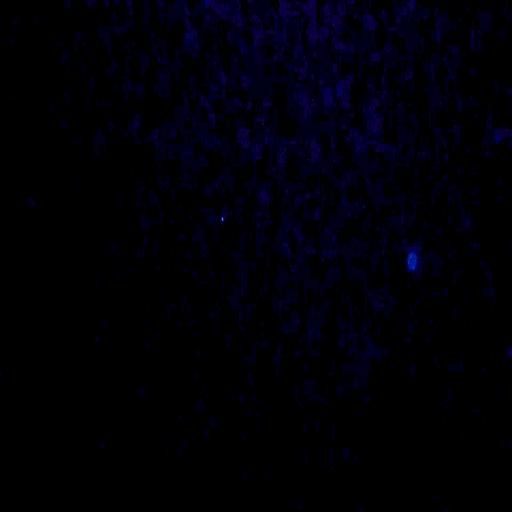object-detection-project: (407, 252, 417, 270), (221, 217, 224, 221)
